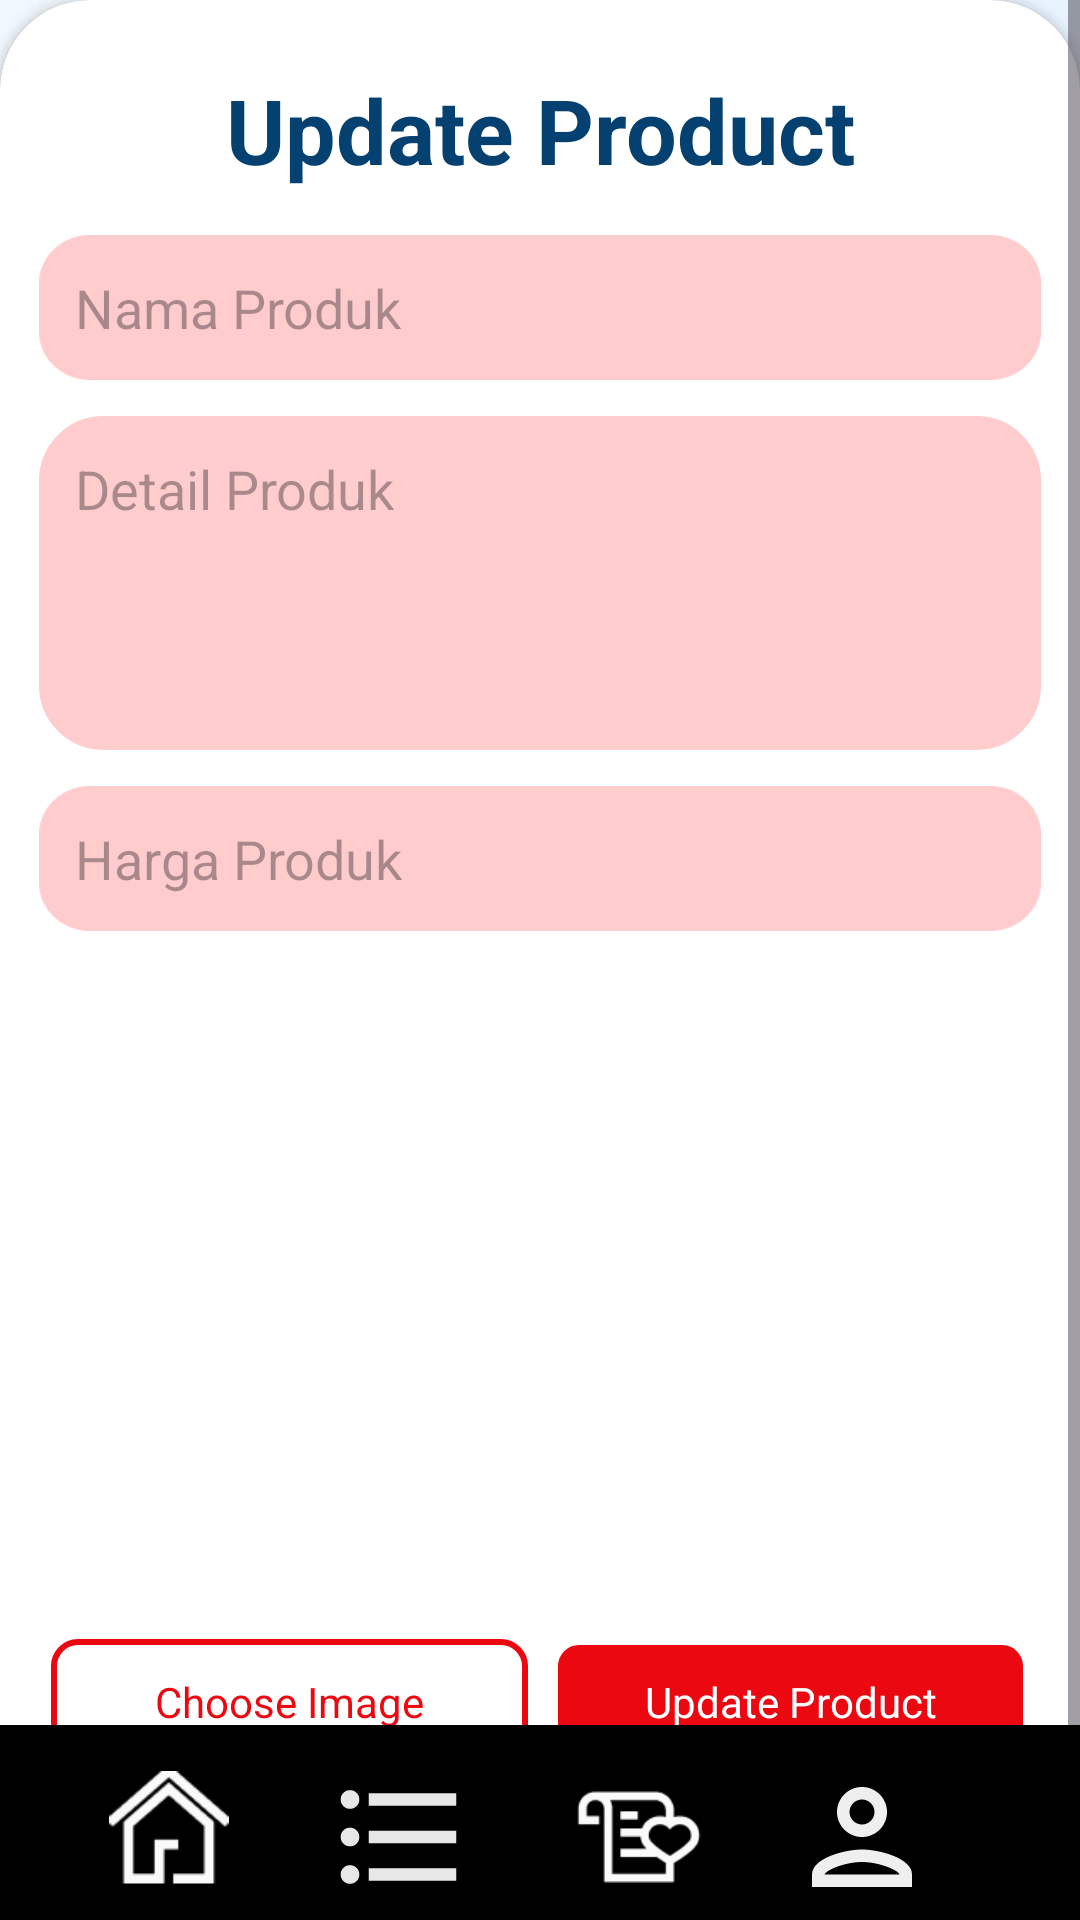

Where icons sit on this 1080*1920 app screen, as (x1, y1, x2, y2):
format list bulleted: (340, 1790, 457, 1884)
home: (109, 1771, 229, 1884)
person: (812, 1787, 912, 1887)
wishlist: (577, 1791, 700, 1883)
